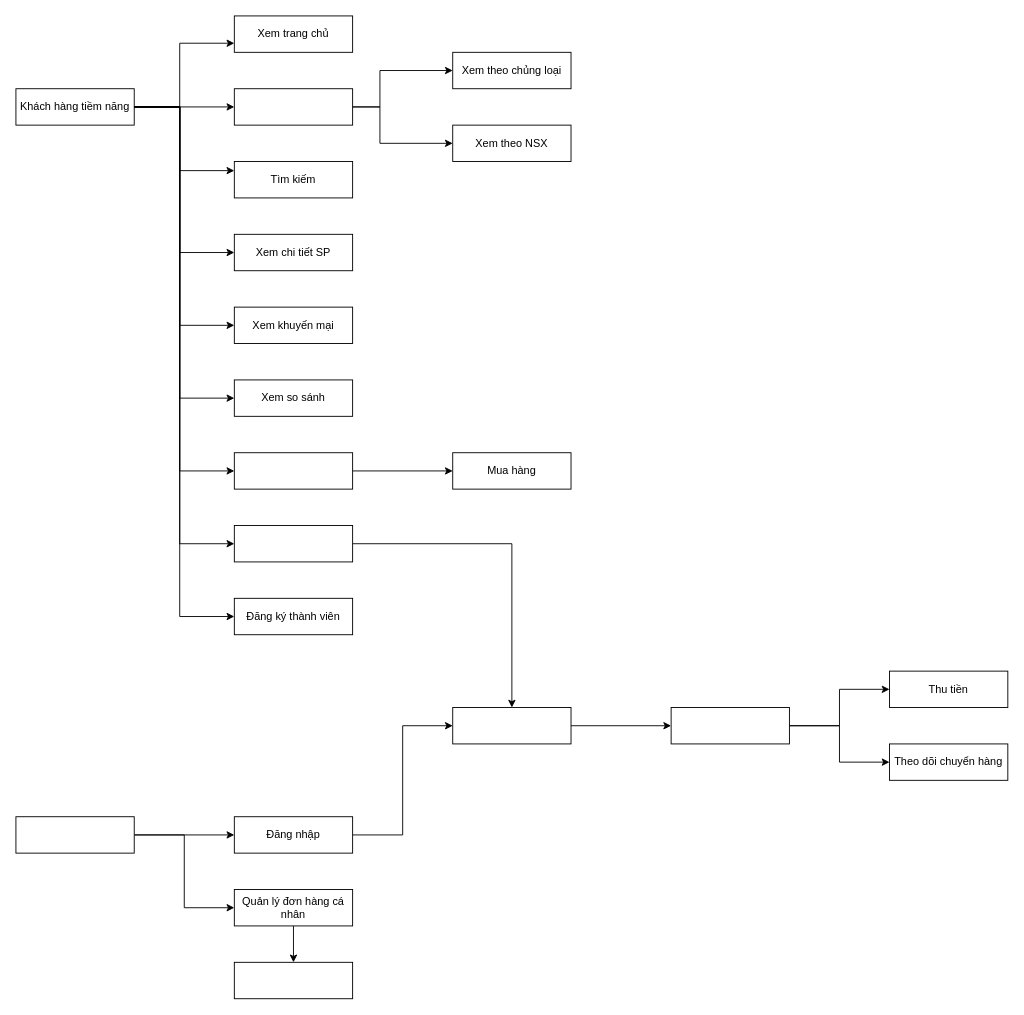
Some shapes in this 1024 by 1015 pixel diagram are drawn without their labels. The shapes that lost their labels are listed below. From the top down, each one's centre as x and y in pixels, then its label:
pixel 293 106: Xem sản phẩm
pixel 293 470: Quản lý giỏ hàng
pixel 293 543: Chat
pixel 511 725: Người bán hàng
pixel 729 725: Quản lý đơn hàng
pixel 74 834: Khách hàng
pixel 293 980: Thanh toán
